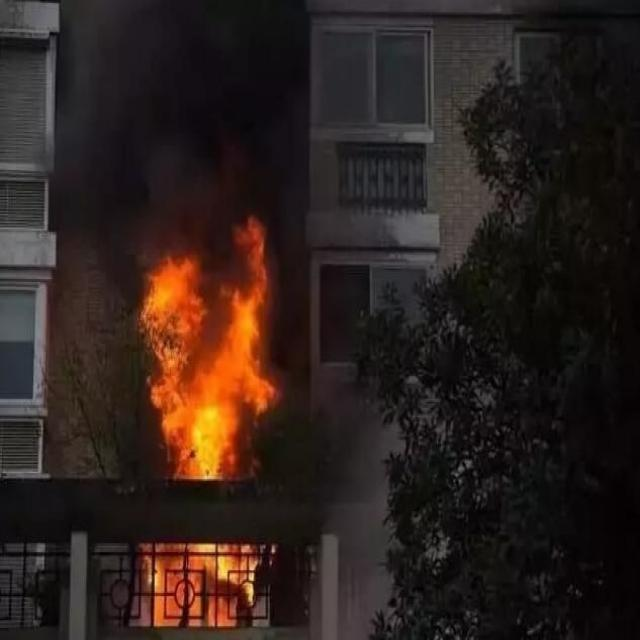Fire: (138, 220, 278, 482), (138, 543, 260, 628)
Smoke: (42, 1, 253, 478)
